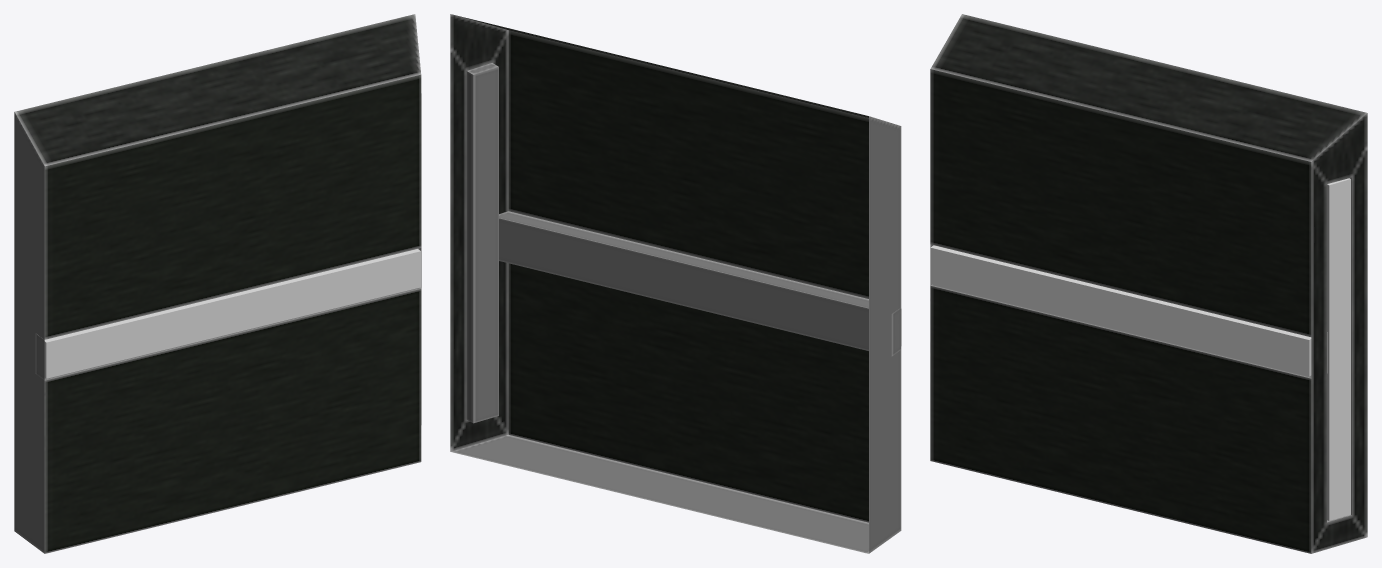
File: CubeBaseFrontWallLeft.fbx
The picture shows the model from 3 angles, left to right: view 1: azimuth 30°, elevation 25°; view 2: azimuth 150°, elevation 25°; view 3: azimuth 330°, elevation 25°; orthographic projection. The views are drawn at different scales.
Parts seen in each view (by area): view 1: pCube1, pCube2; view 2: pCube1; view 3: pCube1, pCube2, pCube3.
Part boxes in pixels (left/top/right/bottom): pCube1: left=14, top=14, right=421, bottom=553; pCube2: left=44, top=249, right=420, bottom=378; pCube1: left=450, top=14, right=901, bottom=553; pCube1: left=930, top=14, right=1367, bottom=553; pCube2: left=930, top=245, right=1311, bottom=376; pCube3: left=1327, top=178, right=1350, bottom=520.
Size of the model in its own units: 1 by 1 by 0.1366.
2 materials, 1 textured.
